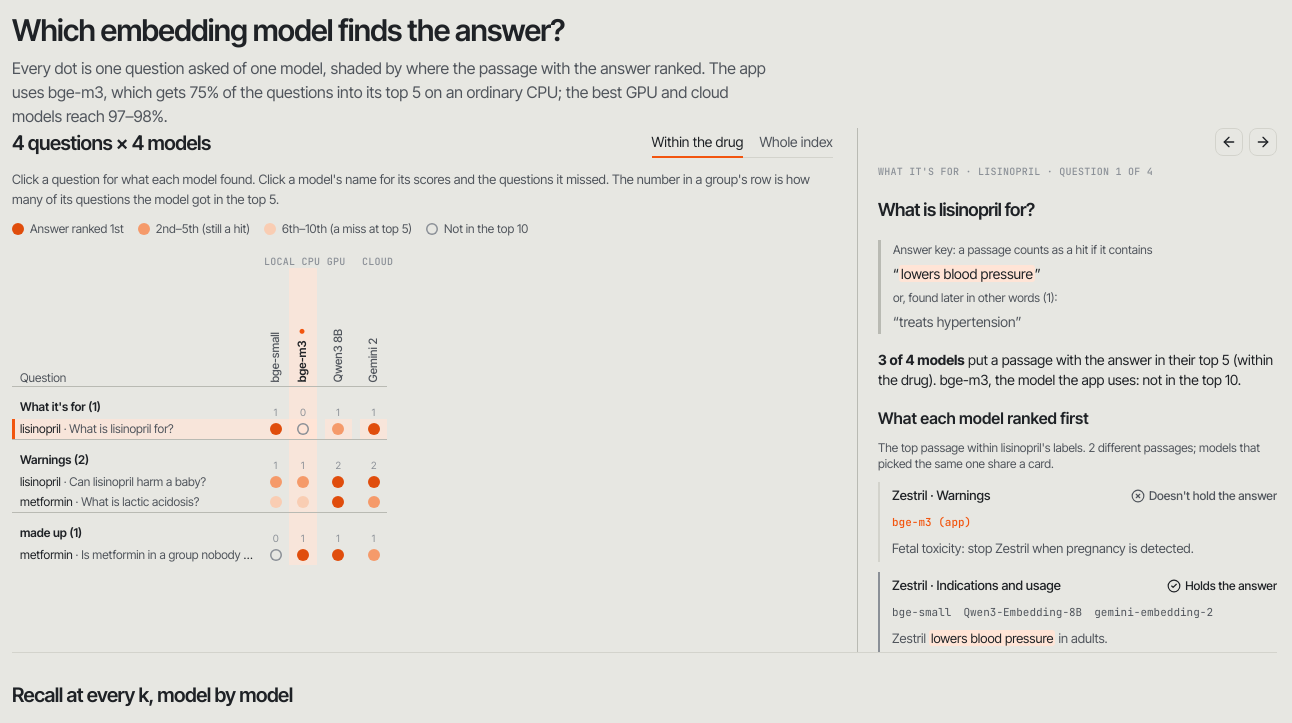
Test case: EmbeddingBenchmark › shows the whole-index ranks after the switch
The width and height of the screenshot is (1292, 723).
Step 1. Click the button "Whole index" → (796, 143), box [759,128,833,158]
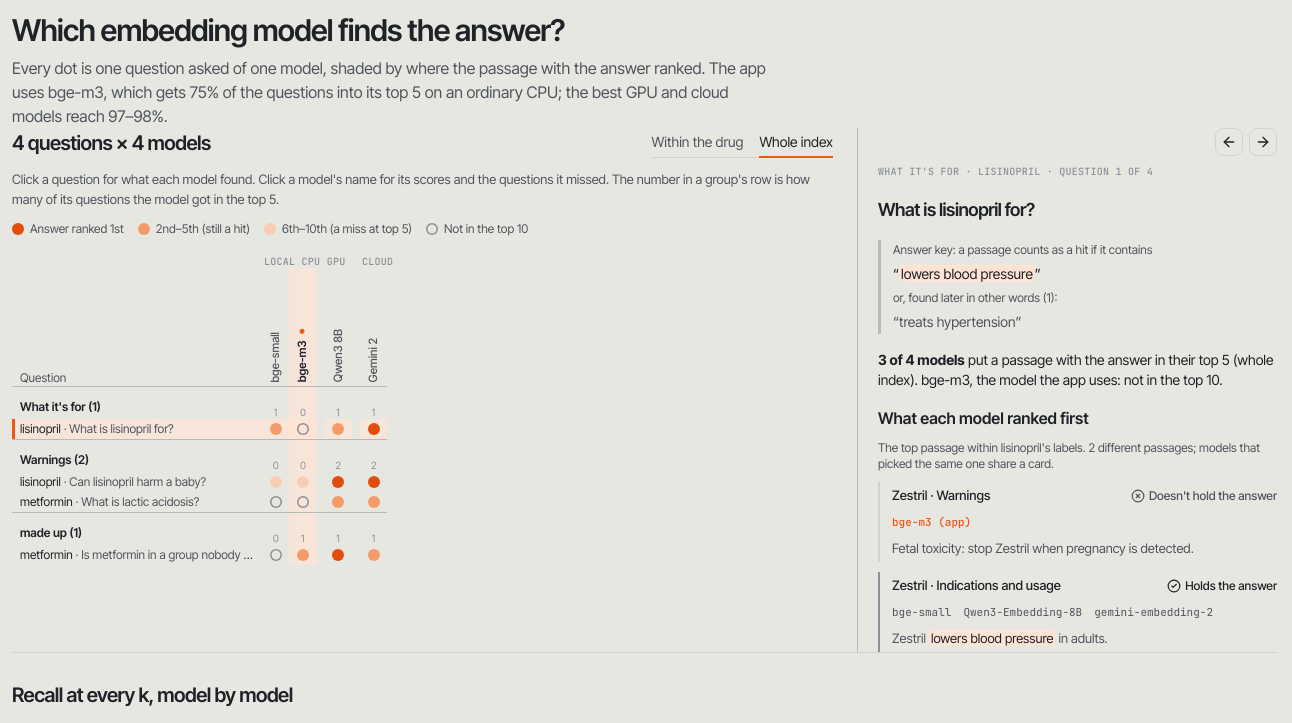
Now the 3rd cell titled "bge-m3: 0 of 2 in the top 5" is shown, box [289,439,317,472]
